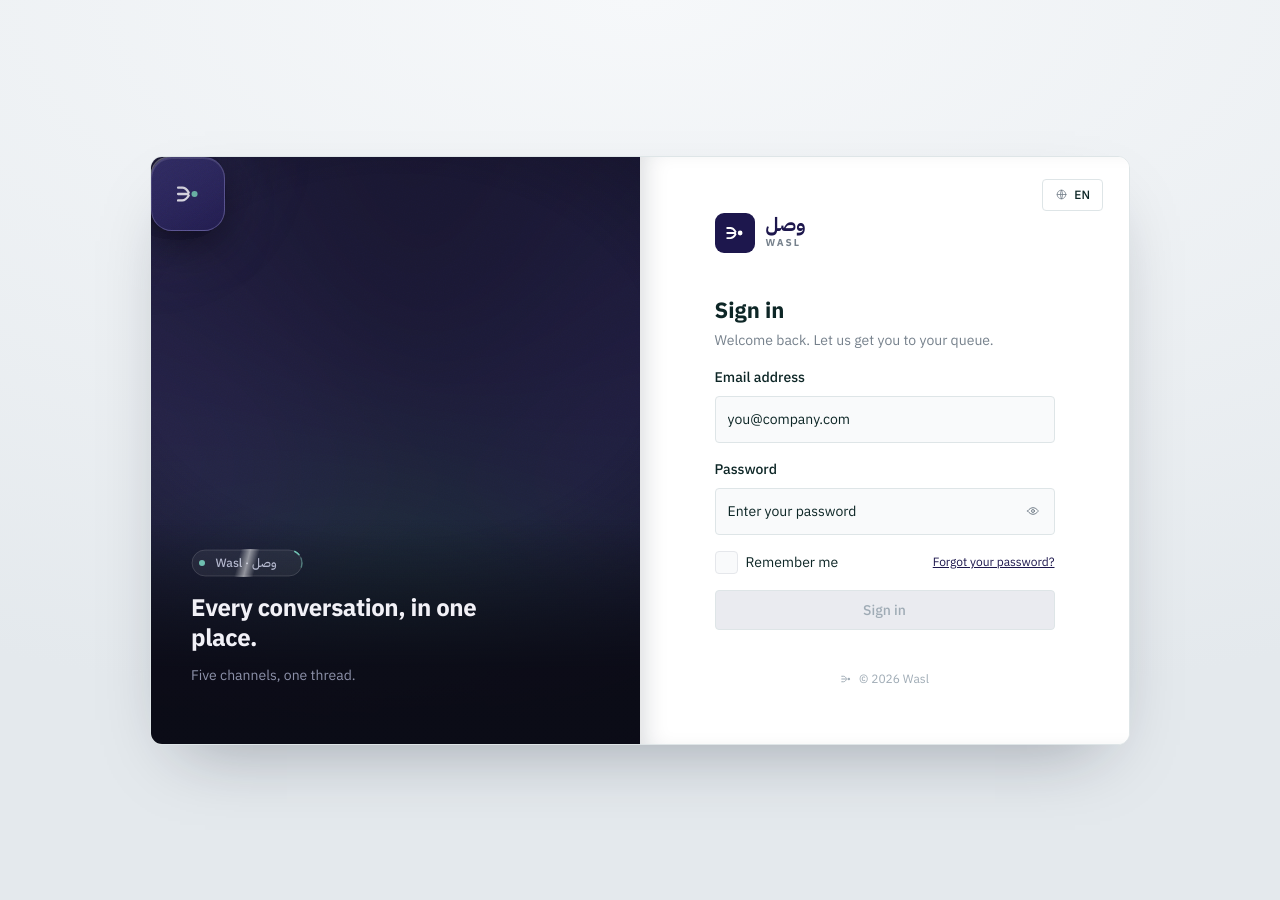
a transport failure says something different from a rejected credential › tells the user to retry rather than to retype
The width and height of the screenshot is (1280, 900).
Type "manager@wasl.local" into the field labelled "Email address".
click(884, 419); type("manager@wasl.local")  # box [714,396,1054,442]
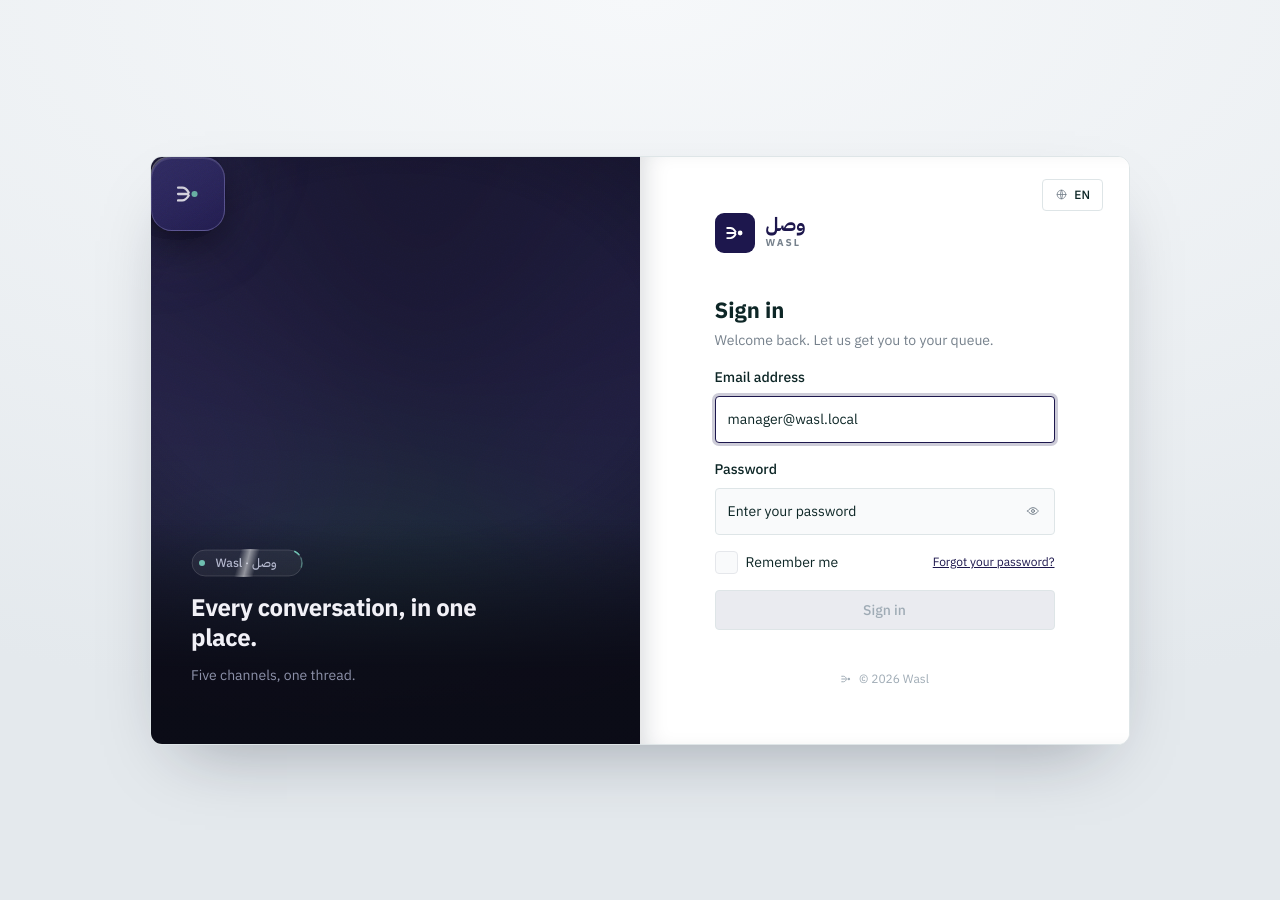
Type "wrong-password" into the password field named "password".
click(884, 511); type("wrong-password")  # box [714,488,1054,534]
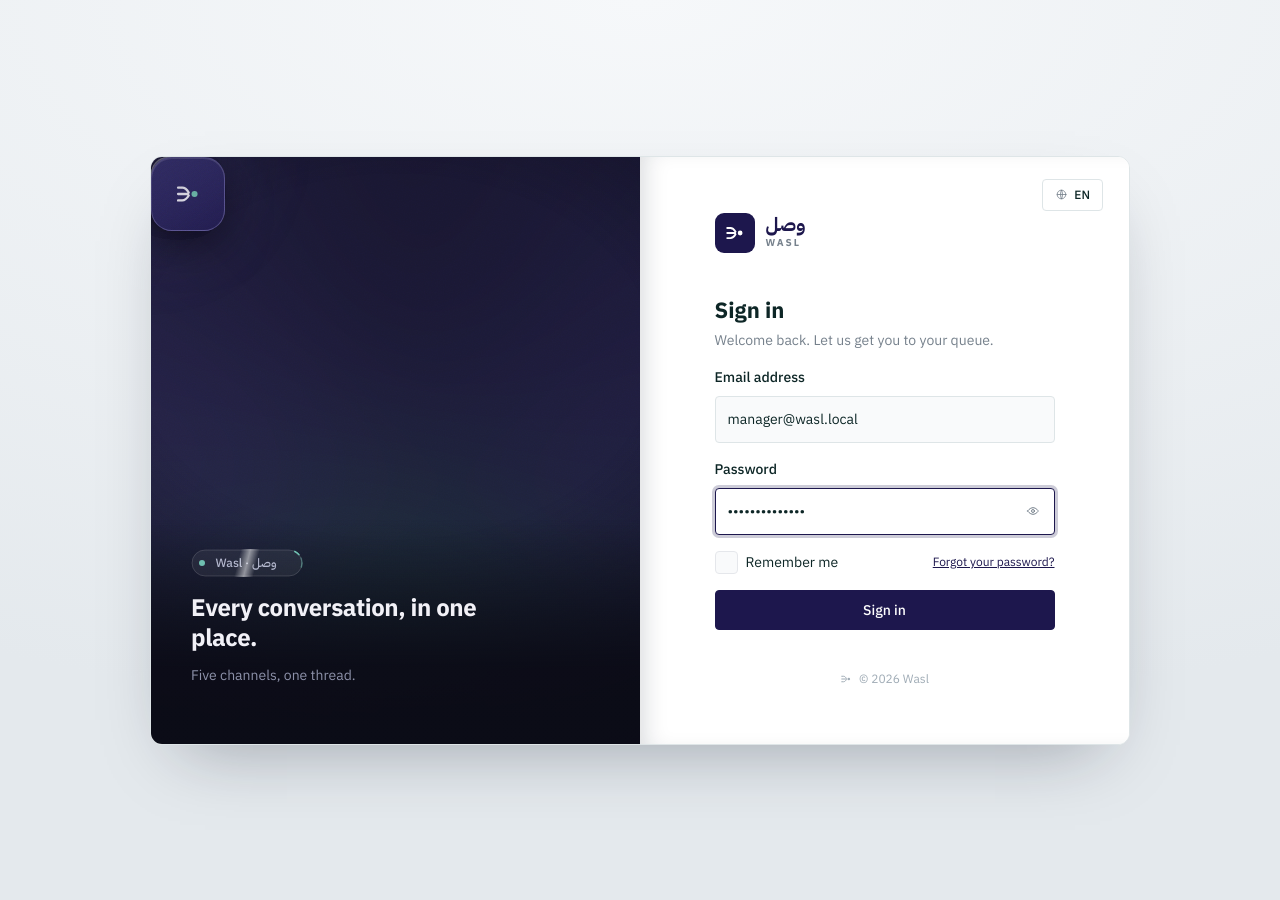
Click the button "Sign in".
click(884, 610)  # box [714,590,1054,630]
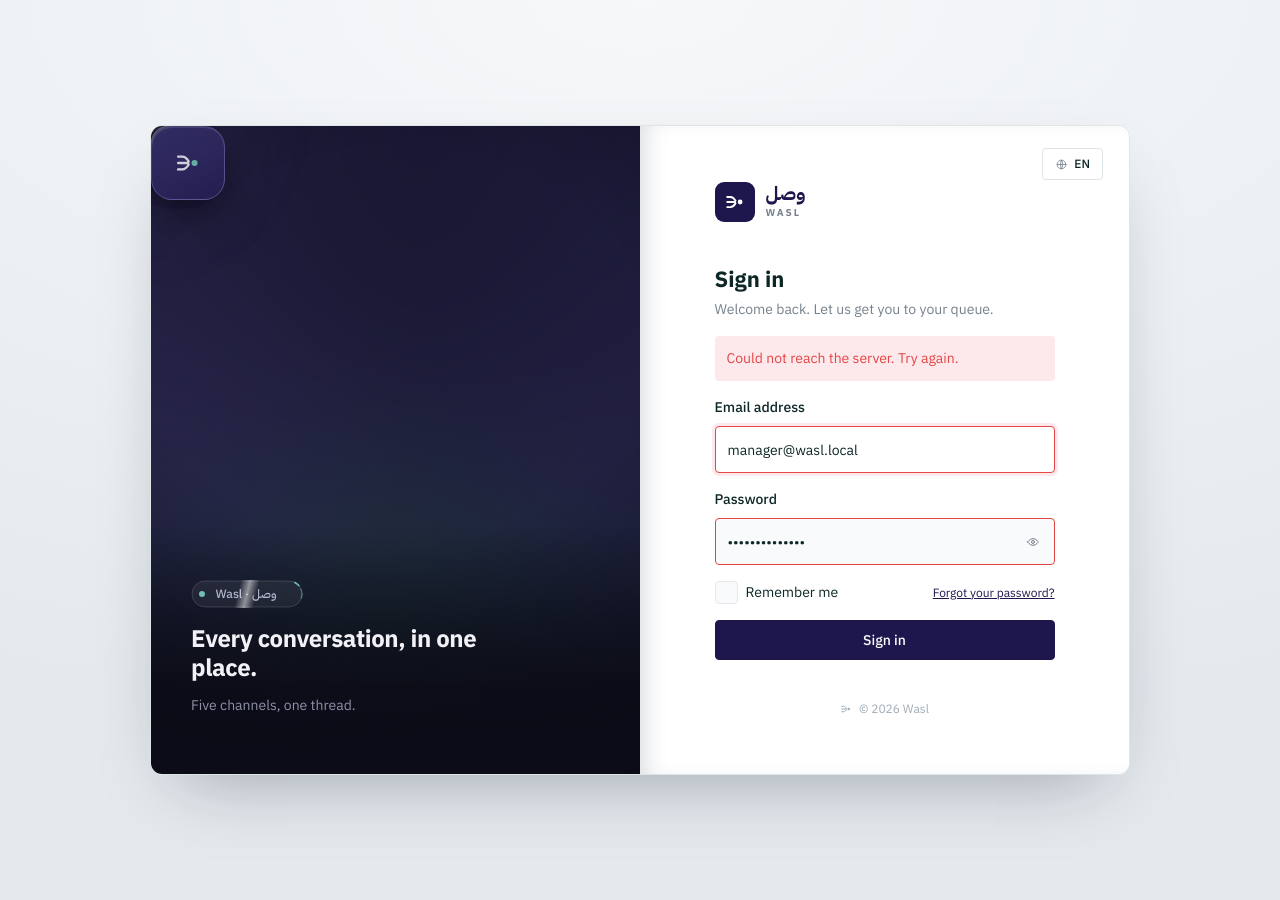
Expected: the message shows "Could not reach the server", [726,349,958,367]
